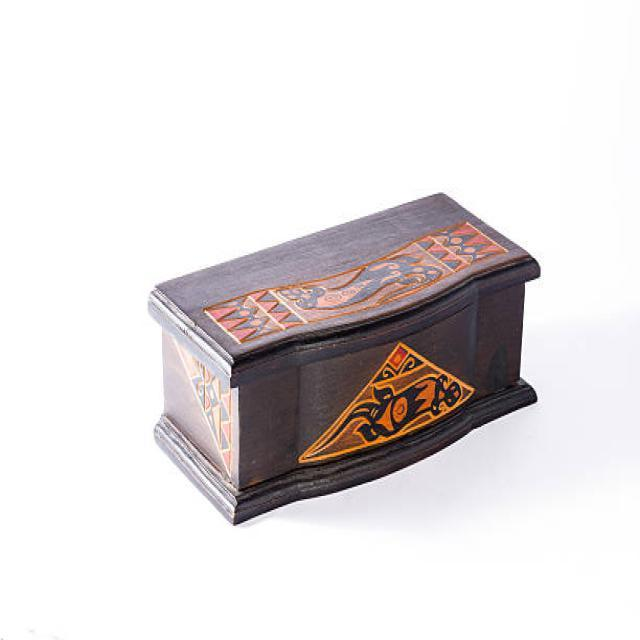table: (147, 190, 540, 524)
